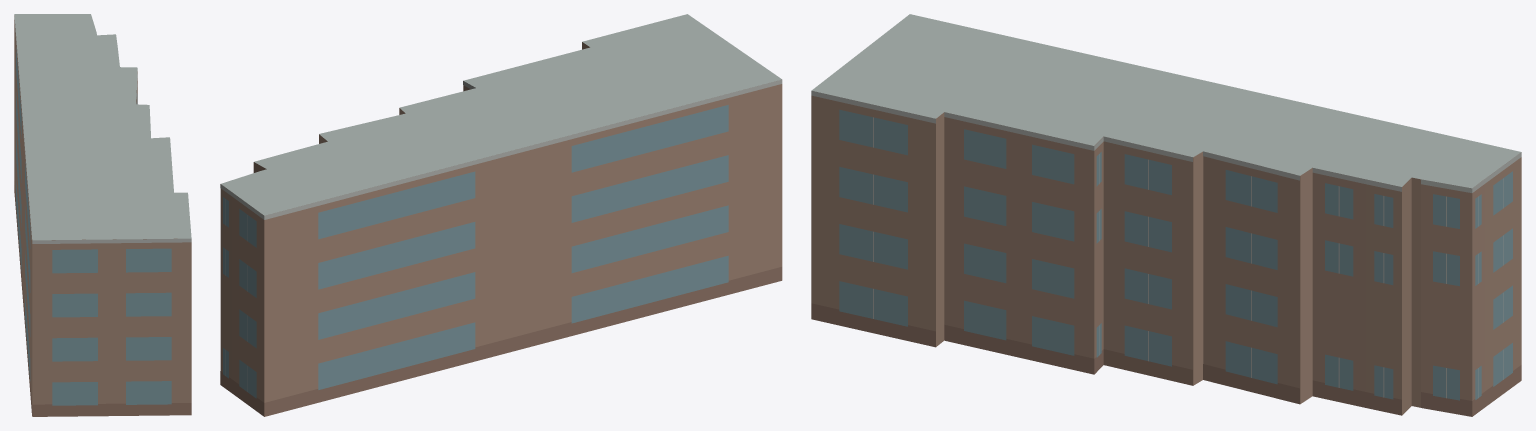
File: survey-upis-32908015.glb
3 renders of one model, left to right at view 1: azimuth 30°, elevation 25°; view 2: azimuth 150°, elevation 25°; view 3: azimuth 270°, elevation 25°, orthographic. The views are drawn at different scales.
Parts seen in each view (by area): view 1: survey-upis-32908015.tmp; view 2: survey-upis-32908015.tmp; view 3: survey-upis-32908015.tmp.
Boxes of the visible parts, left/top/right/bottom form: survey-upis-32908015.tmp: left=14, top=14, right=191, bottom=416; survey-upis-32908015.tmp: left=220, top=14, right=782, bottom=416; survey-upis-32908015.tmp: left=811, top=14, right=1521, bottom=416.
Bounding box in the file's own units: 18.66 × 11.4 × 32.11.
